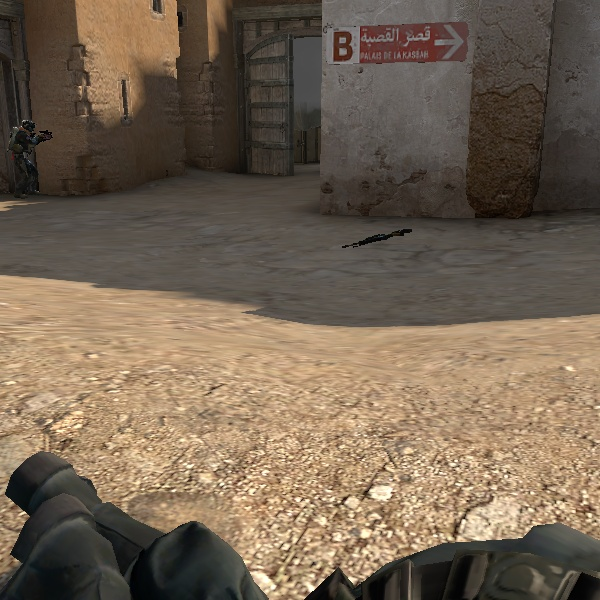ct_body: (3, 115, 49, 201)
ct_head: (16, 115, 39, 139)
